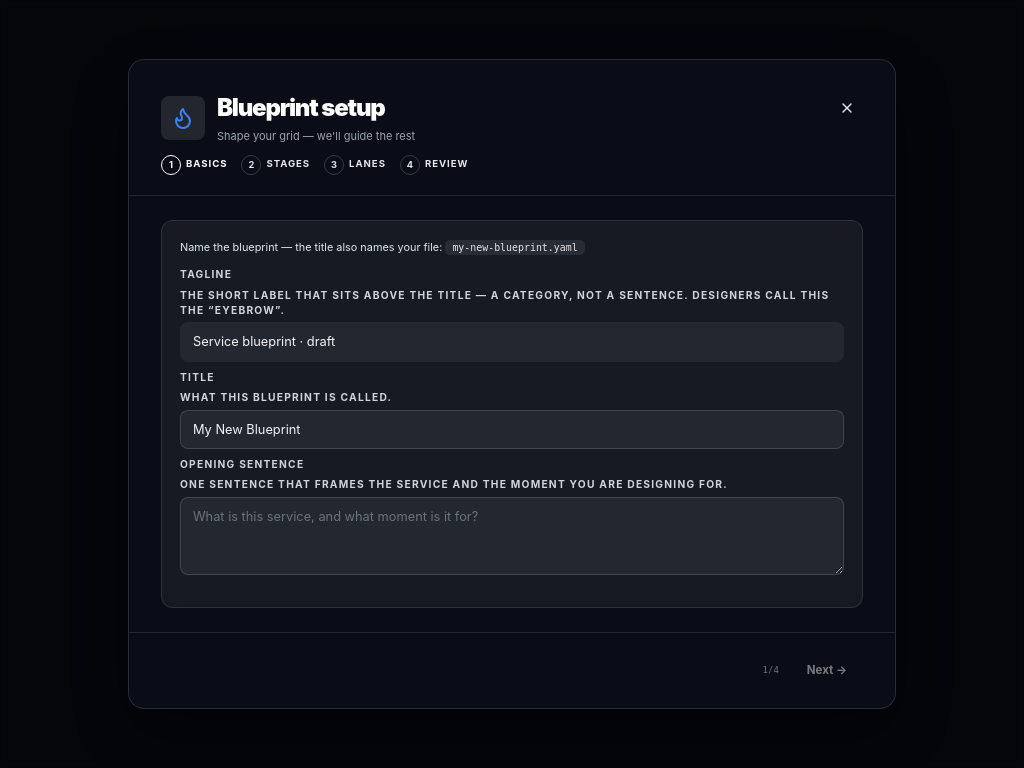
Test: SetupWizardModal — the guided from-scratch flow › the X button runs the same touched-cancel path
Type "typed" into the text box named "Wizard opening sentence" at (512, 536), box [180, 497, 844, 575]
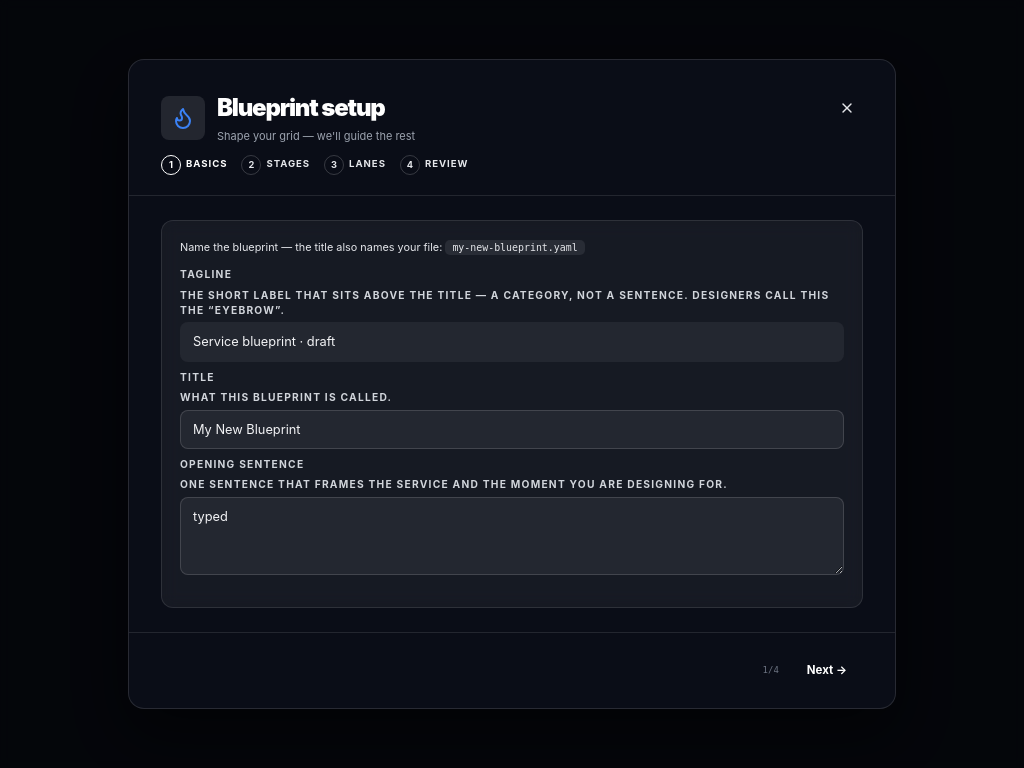
Click the button named "Close setup wizard" at (847, 108), box [831, 92, 863, 124]
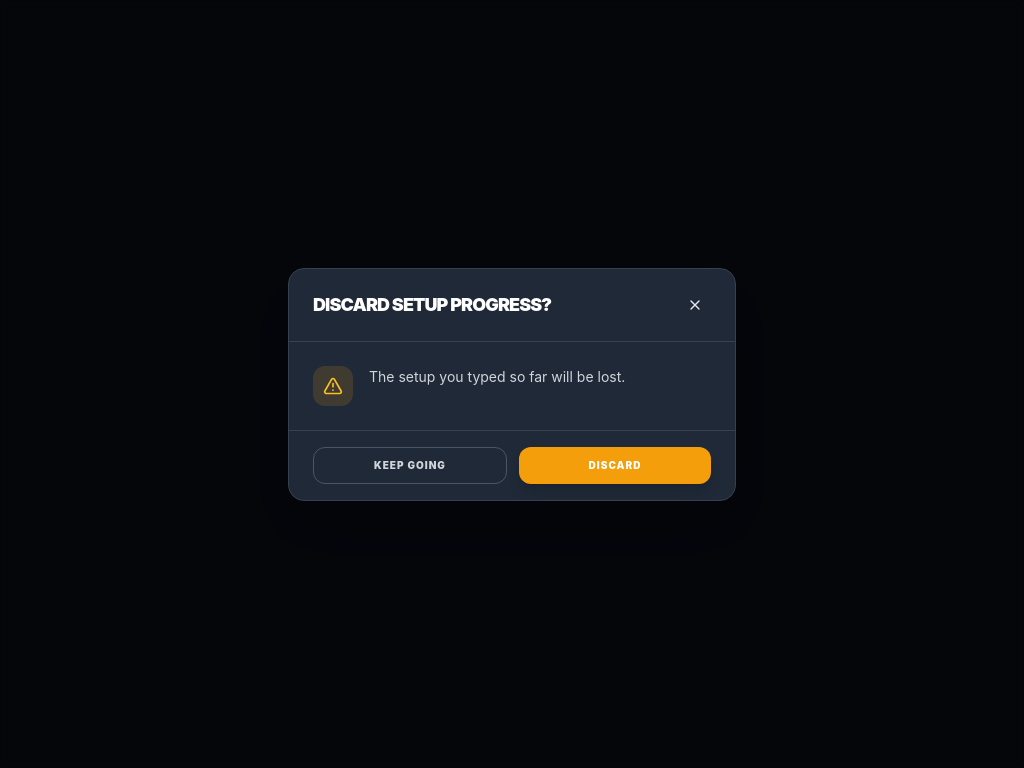
Expected: the heading "Discard setup progress?" is shown, [313, 290, 551, 318]
